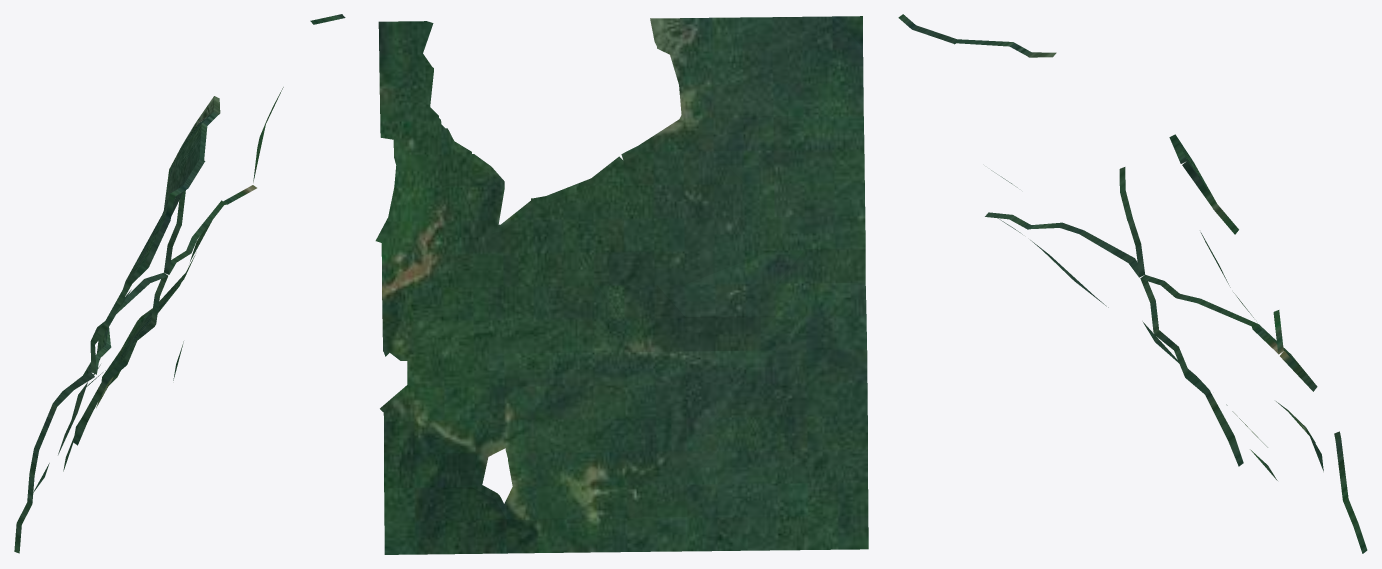
The picture shows the model from 3 angles, left to right: view 1: azimuth 30°, elevation 25°; view 2: azimuth 150°, elevation 25°; view 3: azimuth 270°, elevation 25°; orthographic projection. The views are drawn at different scales.
Size of the model in its own units: 2290 by 2390 by 2177.
Materials: 1 (1 with a texture image).
